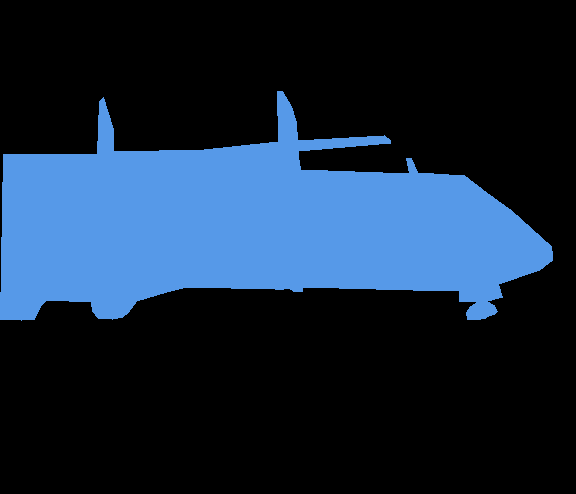Airplane: (0, 91, 552, 320)
